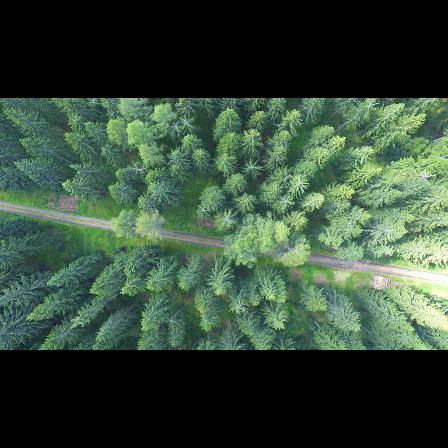Sick: (241, 158, 264, 179), (219, 207, 238, 232), (159, 310, 183, 329), (127, 161, 150, 179), (277, 195, 297, 209), (181, 113, 194, 133), (169, 120, 184, 136), (231, 301, 248, 314), (197, 203, 210, 218)
